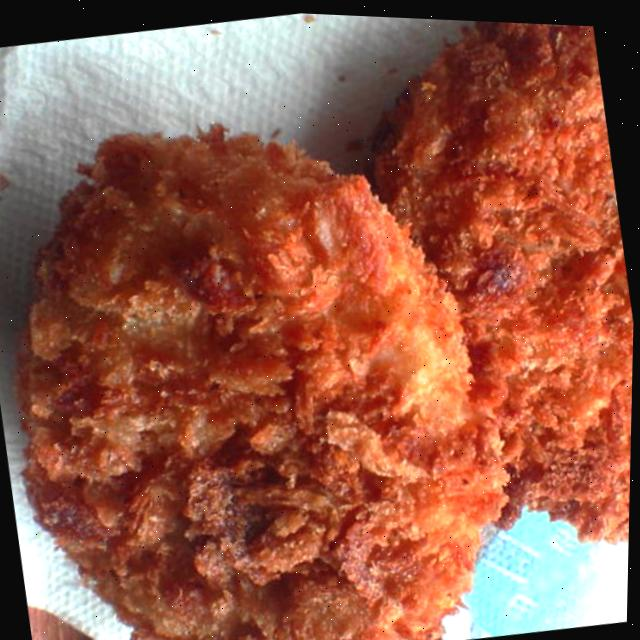炸货点心: (0, 23, 507, 478)
